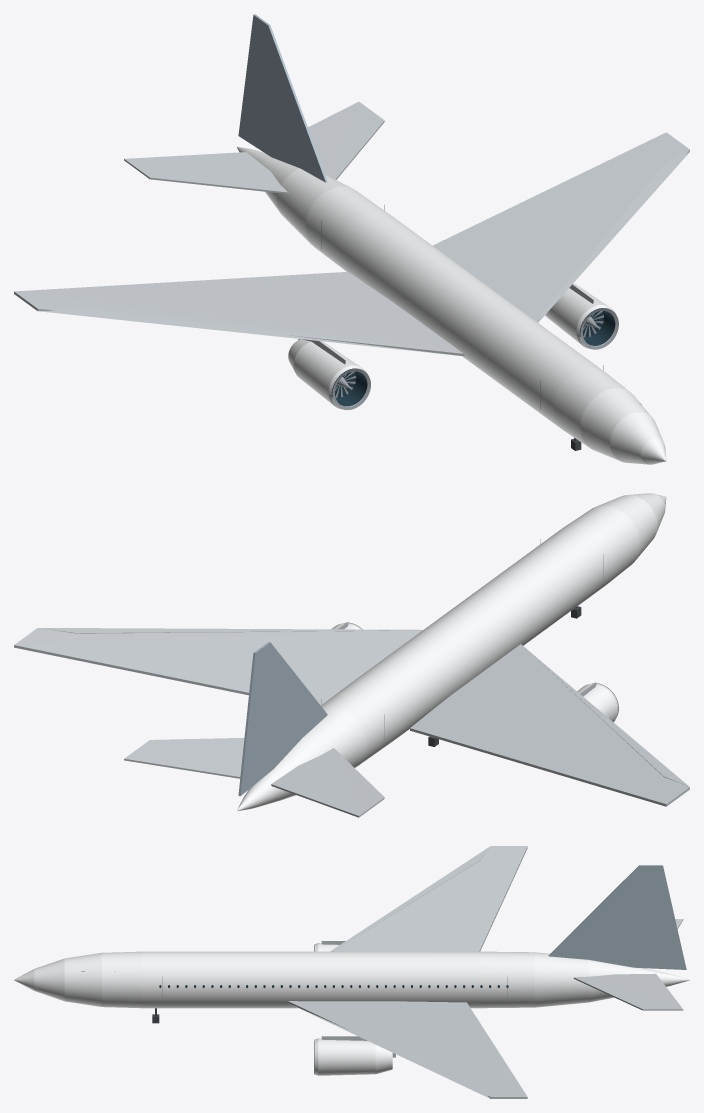
Rendered from b777-neutral-v3.gltf.
3 views of the same model, one above another, from view 1: azimuth 30°, elevation 25°; view 2: azimuth 150°, elevation 25°; view 3: azimuth 270°, elevation 25° (orthographic). The views are drawn at different scales.
Visible parts, largest first — view 1: object 1; view 2: object 1; view 3: object 1.
Part boxes in pixels (x1,y1,x2,y2): object 1: [14, 14, 689, 464]; object 1: [14, 493, 689, 817]; object 1: [14, 846, 689, 1098].
Bounding box in the file's own units: 65 × 19.44 × 74.
